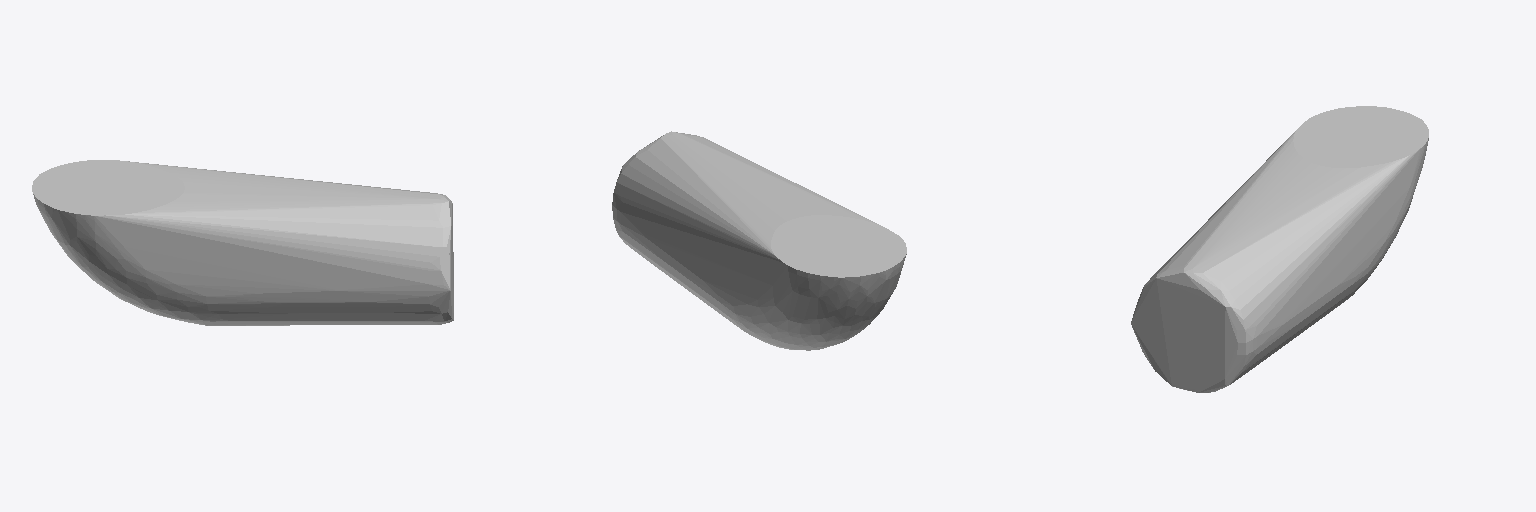
Rendered from original-2-part-2.obj.
The picture shows the model from 3 angles: view 1: azimuth 30°, elevation 25°; view 2: azimuth 150°, elevation 25°; view 3: azimuth 270°, elevation 25°; orthographic projection.
Bounding box in the file's own units: 0.0403 × 0.0146 × 0.0302.